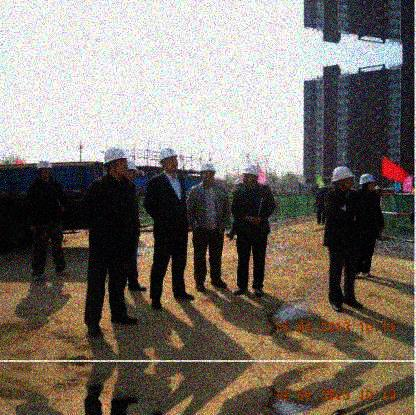helmet: (103, 148, 130, 180), (331, 165, 356, 191), (157, 148, 180, 175), (241, 164, 260, 188), (358, 173, 377, 193), (200, 163, 217, 184), (36, 160, 53, 180)
